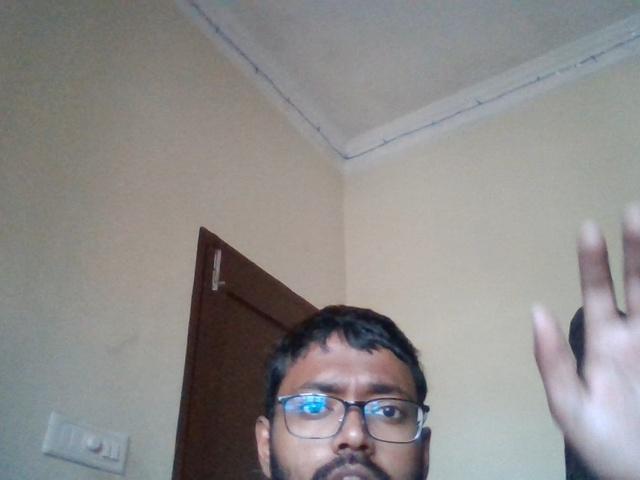Hello: (523, 211, 640, 468)
